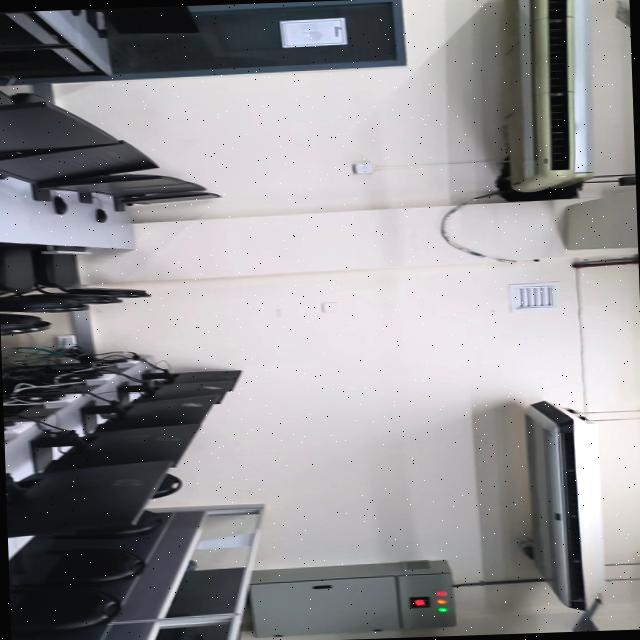Chair: (0, 242, 146, 312), (8, 535, 145, 589), (10, 588, 120, 631), (53, 509, 162, 537), (40, 250, 82, 288), (0, 312, 50, 334), (153, 473, 183, 497)
Monitor: (5, 458, 171, 536), (45, 422, 200, 470), (0, 139, 157, 182), (34, 173, 220, 209), (0, 100, 116, 152), (97, 394, 219, 430), (93, 4, 199, 32), (116, 189, 221, 209), (143, 380, 231, 398), (169, 369, 241, 382), (119, 385, 139, 392)
Mouse: (54, 195, 68, 213), (97, 208, 108, 221), (97, 28, 107, 37), (71, 8, 81, 14)
